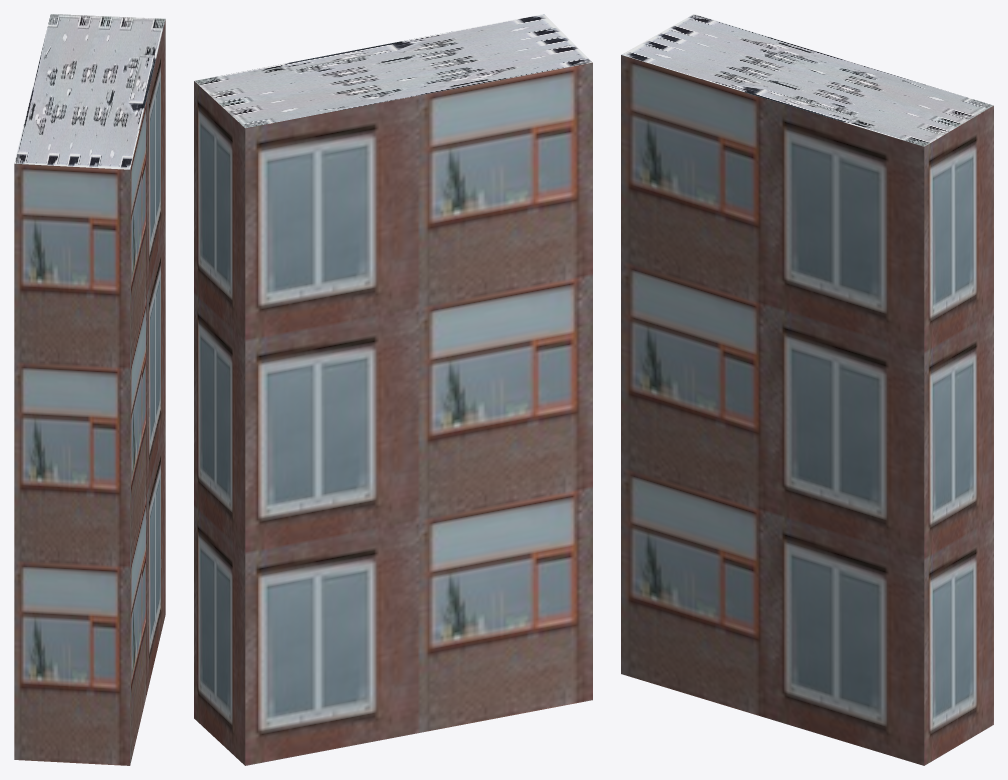
Rendered from ResTex__4353.fbx.
3 views of the same model, side by side, from view 1: azimuth 30°, elevation 25°; view 2: azimuth 150°, elevation 25°; view 3: azimuth 270°, elevation 25° (orthographic). The views are drawn at different scales.
Parts seen in each view (by area): view 1: CityEngineMaterial_19_m, CityEngineMaterial_15_m; view 2: CityEngineMaterial_19_m, CityEngineMaterial_15_m; view 3: CityEngineMaterial_19_m, CityEngineMaterial_15_m.
Part boxes in pixels (left/top/right/bottom): CityEngineMaterial_19_m: left=14, top=19, right=165, bottom=765; CityEngineMaterial_15_m: left=14, top=14, right=165, bottom=169; CityEngineMaterial_19_m: left=194, top=62, right=592, bottom=765; CityEngineMaterial_15_m: left=194, top=14, right=592, bottom=128; CityEngineMaterial_19_m: left=621, top=55, right=993, bottom=765; CityEngineMaterial_15_m: left=621, top=14, right=993, bottom=146.
Size of the model in its own units: 4.14 by 9 by 4.91.
2 materials, 2 textured.
